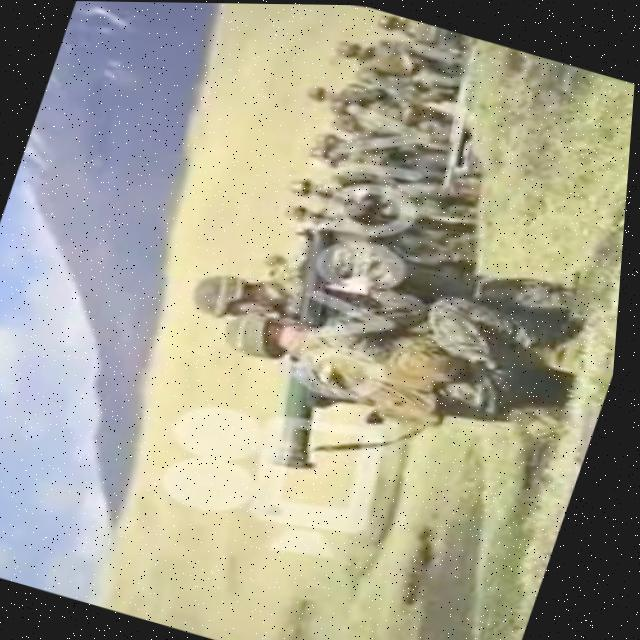rocket: (225, 220, 392, 481)
